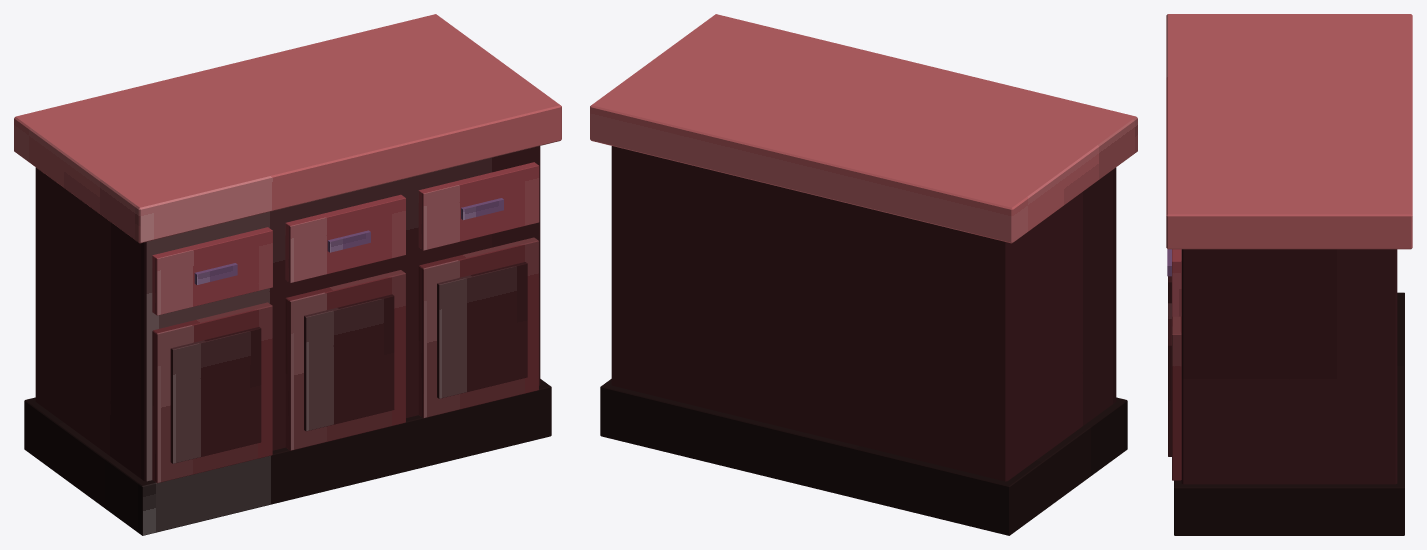
The model's file is wooden_dresser_sideboard_mahogany.glb.
3 renders of one model, left to right at view 1: azimuth 30°, elevation 25°; view 2: azimuth 150°, elevation 25°; view 3: azimuth 270°, elevation 25°, orthographic. The views are drawn at different scales.
Visible parts, largest first — view 1: DresserTop, DresserBody, DresserPlinth, DoorInset_1, DoorInset_3, DoorInset_2, LowerDoor_3, LowerDoor_1, LowerDoor_2, TopDrawer_3, TopDrawer_1, TopDrawer_2; view 2: DresserBody, DresserTop, DresserPlinth; view 3: DresserTop, DresserBody, DresserPlinth, LowerDoor_3, TopDrawer_3, DoorInset_3.
Boxes of the visible parts, <box> form: DresserTop: <box>14,14,561,243</box>; DresserBody: <box>35,146,540,481</box>; DresserPlinth: <box>24,379,551,535</box>; DoorInset_1: <box>170,327,261,463</box>; DoorInset_3: <box>437,262,527,398</box>; DoorInset_2: <box>304,294,394,431</box>; LowerDoor_3: <box>418,237,538,418</box>; LowerDoor_1: <box>152,302,272,483</box>; LowerDoor_2: <box>285,270,405,450</box>; TopDrawer_3: <box>418,162,539,250</box>; TopDrawer_1: <box>152,227,272,315</box>; TopDrawer_2: <box>285,194,405,282</box>; DresserBody: <box>611,146,1116,481</box>; DresserTop: <box>590,14,1137,243</box>; DresserPlinth: <box>600,379,1127,535</box>; DresserTop: <box>1166,14,1412,249</box>; DresserBody: <box>1181,249,1397,484</box>; DresserPlinth: <box>1174,292,1404,535</box>; LowerDoor_3: <box>1172,316,1181,480</box>; TopDrawer_3: <box>1172,249,1181,316</box>; DoorInset_3: <box>1168,303,1171,456</box>.
Bounding box in the file's own units: 1.24 × 0.93 × 0.64.
1 material, 1 textured.
